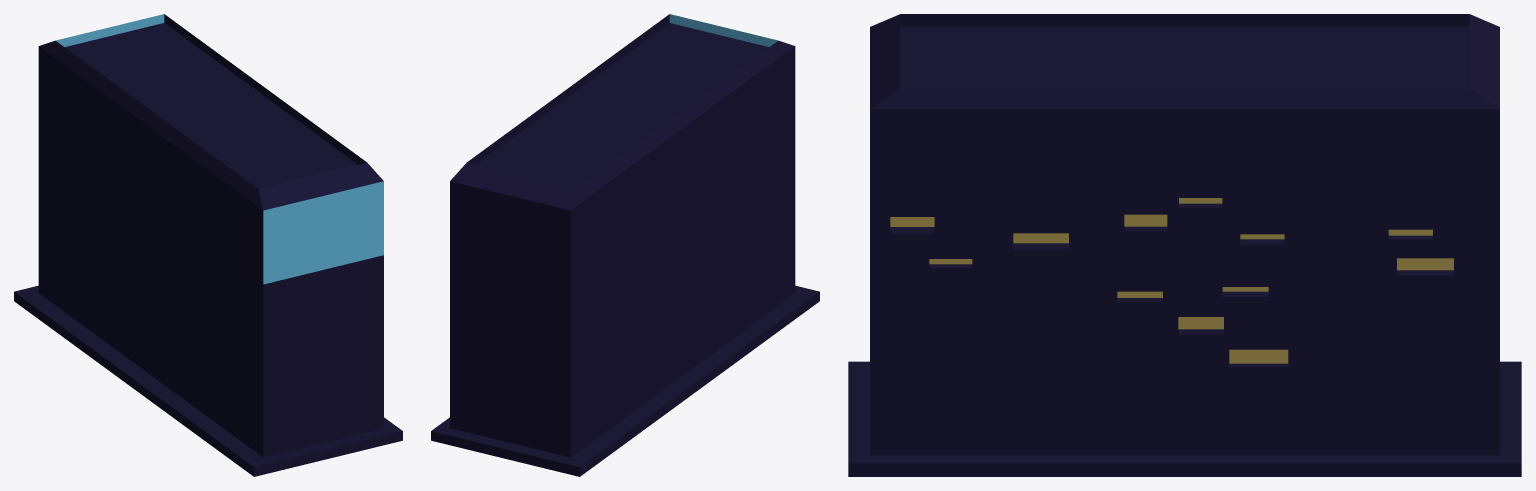
Rendered from House8.fbx.
3 views of the same model, side by side, from view 1: azimuth 30°, elevation 25°; view 2: azimuth 150°, elevation 25°; view 3: azimuth 270°, elevation 25° (orthographic). The views are drawn at different scales.
Visible parts, largest first — view 1: House8; view 2: House8; view 3: House8.
Boxes of the visible parts, x1=… form: House8: x1=14, y1=14, x2=402, y2=476; House8: x1=431, y1=14, x2=819, y2=476; House8: x1=848, y1=14, x2=1521, y2=476.
Bounding box in the file's own units: 297 × 512 × 829.
